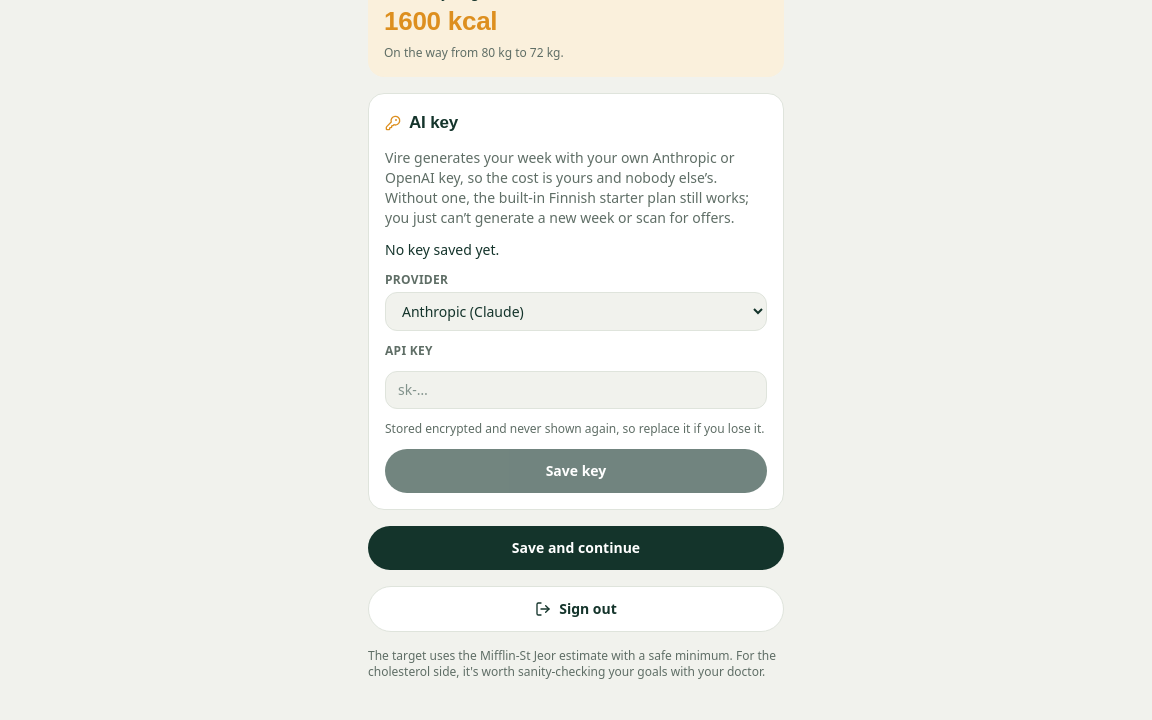
Test: first-run gate › moves on to the plan gate once the profile is saved
(page scrolled)
Click the button "Save and continue" at (576, 548), box [368,526,784,570]
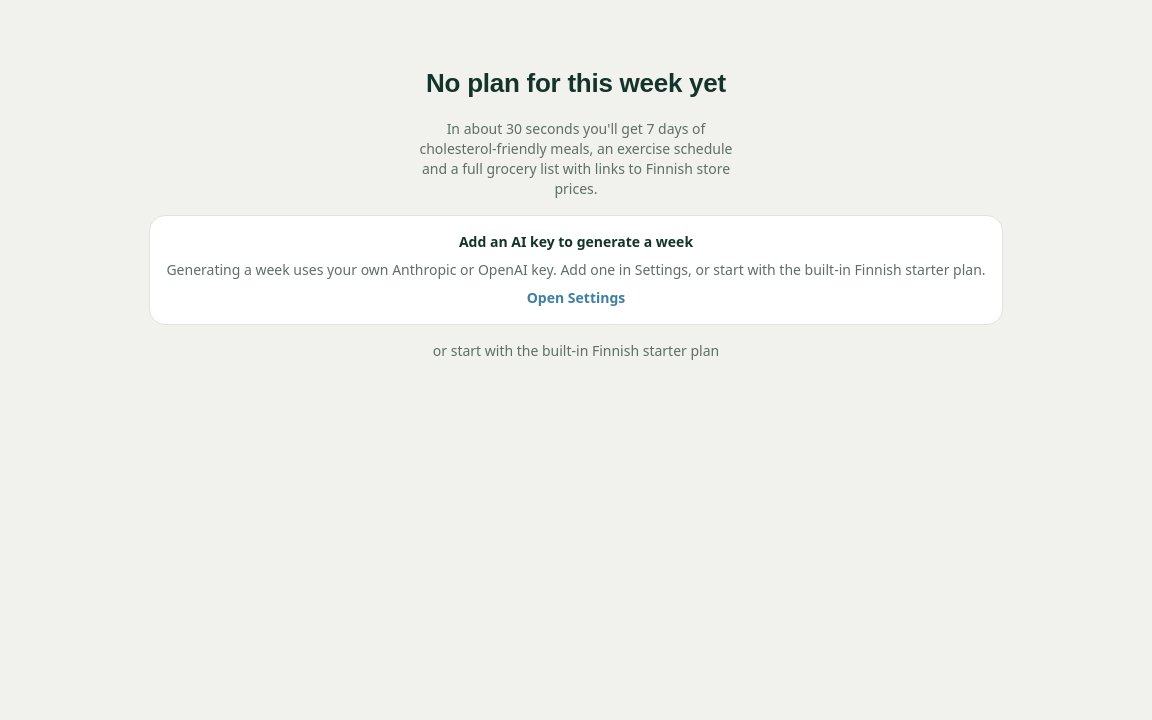
expect the heading "No plan for this week yet" is shown: met, box [426,64,726,103]
